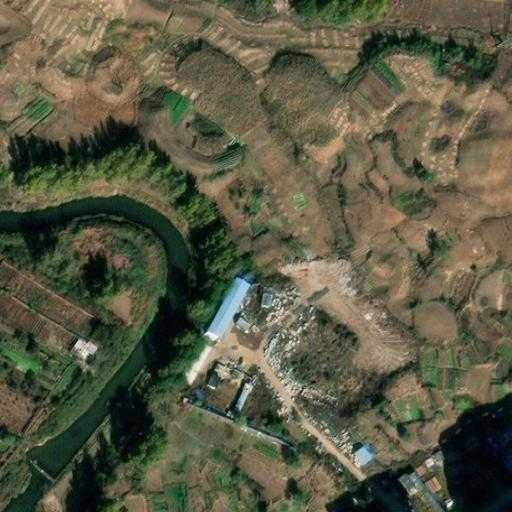building: (201, 276, 249, 341), (175, 334, 215, 386), (223, 311, 267, 352), (66, 329, 100, 361), (348, 438, 377, 468), (231, 376, 254, 412), (201, 367, 224, 391), (256, 287, 275, 307)
